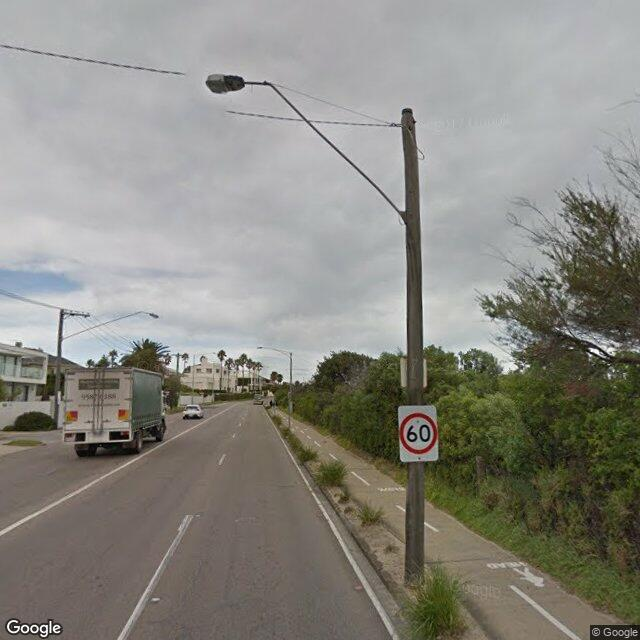crossarm: (63, 312, 90, 317), (171, 354, 182, 356)
streetlight: (206, 74, 406, 225), (60, 310, 160, 342), (257, 347, 290, 358), (194, 352, 216, 356)
timber-pole: (402, 108, 424, 588), (54, 310, 64, 430), (289, 352, 292, 428), (191, 355, 195, 405), (176, 353, 179, 376)
